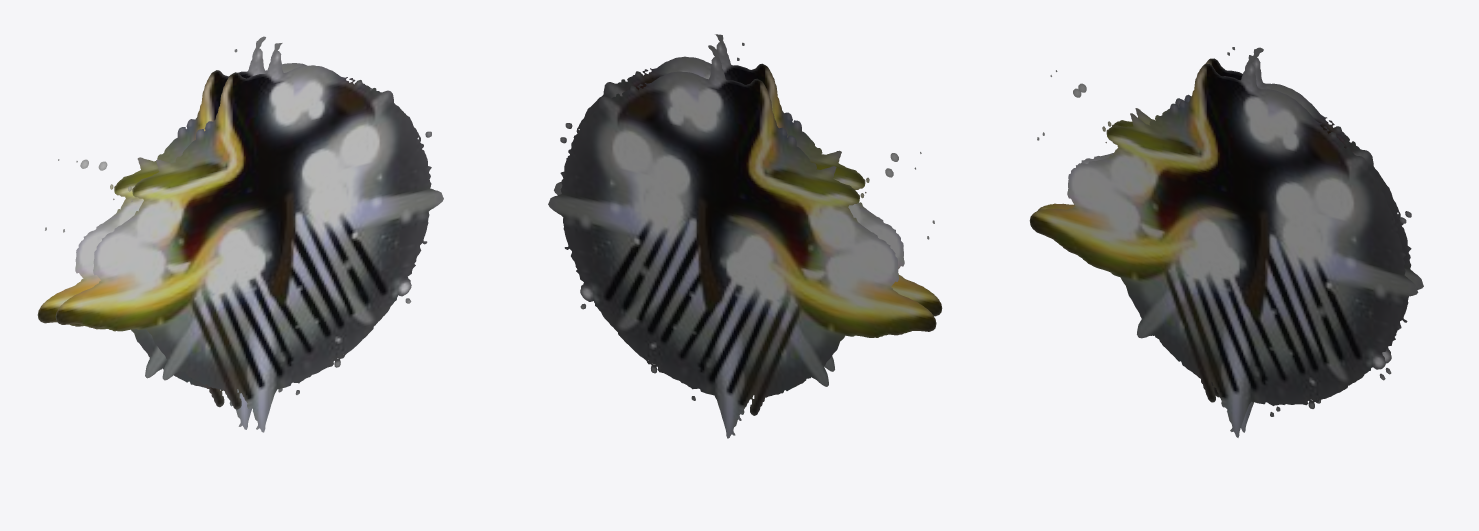
File: SM_StarfishComb.fbx
3 views of the same model, side by side, from view 1: azimuth 30°, elevation 25°; view 2: azimuth 150°, elevation 25°; view 3: azimuth 330°, elevation 25° (orthographic).
Visible parts, largest first — view 1: SM_StarfishComb; view 2: SM_StarfishComb; view 3: SM_StarfishComb.
Boxes of the visible parts, x1,y1,x2,y2 form: SM_StarfishComb: (37, 36, 443, 432); SM_StarfishComb: (548, 34, 942, 438); SM_StarfishComb: (1029, 47, 1423, 437).
Bounding box in the file's own units: 0.8738 × 0.7677 × 0.0395.
